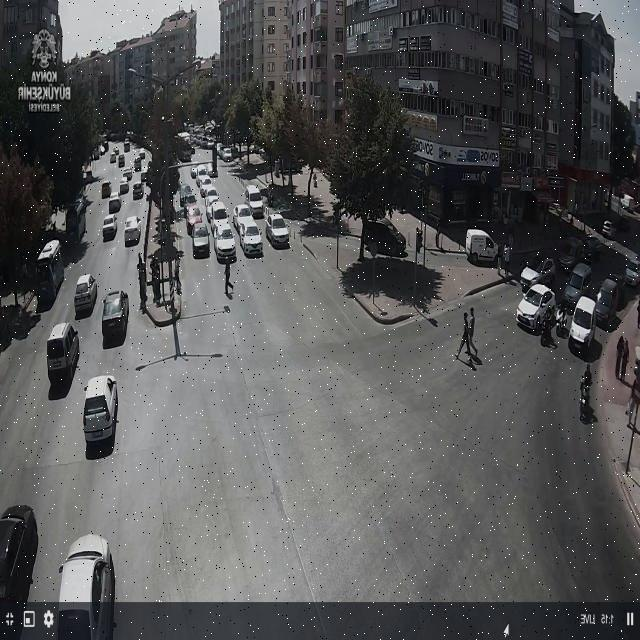Bus: (36, 240, 64, 300)
Car: (56, 535, 116, 637), (1, 504, 38, 630), (81, 376, 118, 446), (46, 322, 79, 381), (516, 282, 556, 330), (361, 218, 407, 258), (560, 263, 593, 309), (593, 278, 622, 326), (96, 291, 125, 337), (521, 255, 557, 290), (212, 223, 237, 260), (74, 274, 97, 314), (238, 222, 264, 257), (265, 213, 290, 248), (190, 224, 210, 258), (232, 203, 254, 229), (184, 204, 203, 233), (124, 215, 142, 244), (208, 200, 228, 226), (623, 257, 640, 287), (102, 214, 118, 240), (178, 183, 194, 206), (108, 194, 122, 213), (132, 181, 144, 199), (602, 220, 614, 238), (220, 148, 233, 162), (119, 178, 130, 194), (101, 182, 112, 198)
Van: (459, 223, 504, 266), (569, 296, 599, 352), (244, 184, 265, 216)
